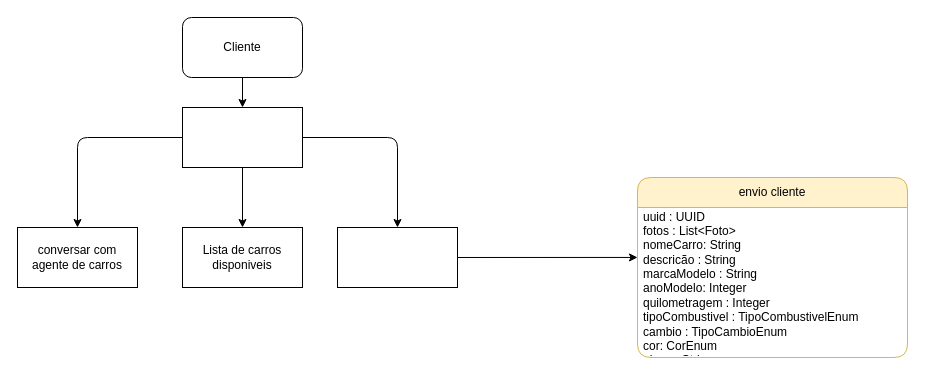
Image size: 925x384. Some labels were removed from this diagram. Here are the shapes that lost their labels. From the top down, the centre of each, then its label:
At (x=242, y=137): "site".
At (x=397, y=257): "quero vender meu carro".
